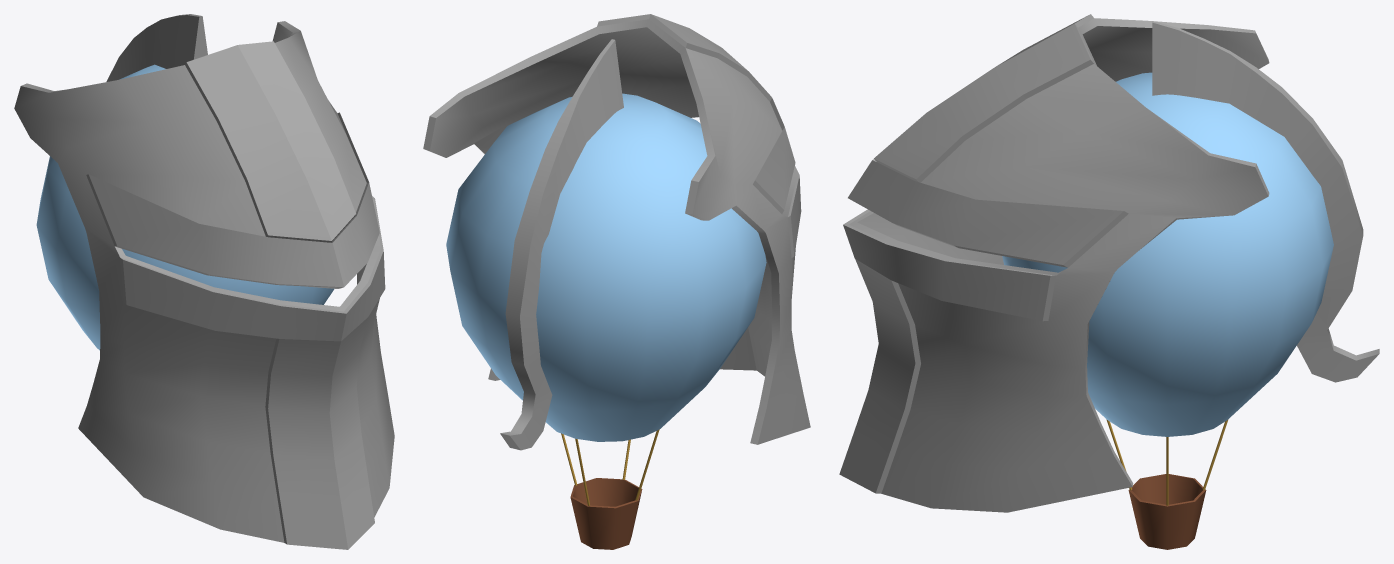
File: Lv4_FB_Knight.FBX
3 views of the same model, side by side, from view 1: azimuth 30°, elevation 25°; view 2: azimuth 150°, elevation 25°; view 3: azimuth 270°, elevation 25° (orthographic). The views are drawn at different scales.
Parts seen in each view (by area): view 1: Plane002, Sphere001, Box001; view 2: Sphere001, Plane002, Box001, Cylinder001, Line003; view 3: Plane002, Sphere001, Box001, Cylinder001.
Boxes of the visible parts, x1,y1,x2,y2 form: Plane002: [14, 21, 394, 549]; Sphere001: [36, 64, 334, 350]; Box001: [106, 14, 207, 81]; Sphere001: [446, 93, 766, 441]; Plane002: [423, 14, 810, 444]; Box001: [500, 39, 623, 450]; Cylinder001: [570, 478, 642, 549]; Line003: [561, 429, 659, 505]; Plane002: [839, 14, 1269, 512]; Sphere001: [1002, 72, 1333, 436]; Box001: [1152, 21, 1379, 382]; Cylinder001: [1128, 474, 1206, 549].
Size of the model in its own units: 130 by 220 by 208.
